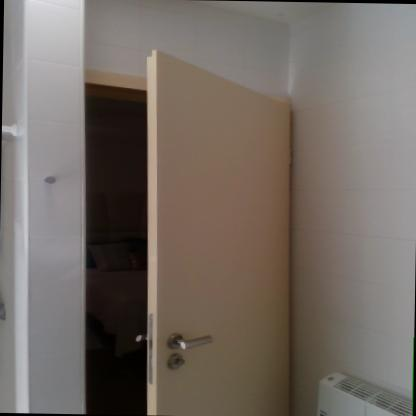semi: (68, 73, 311, 416)
